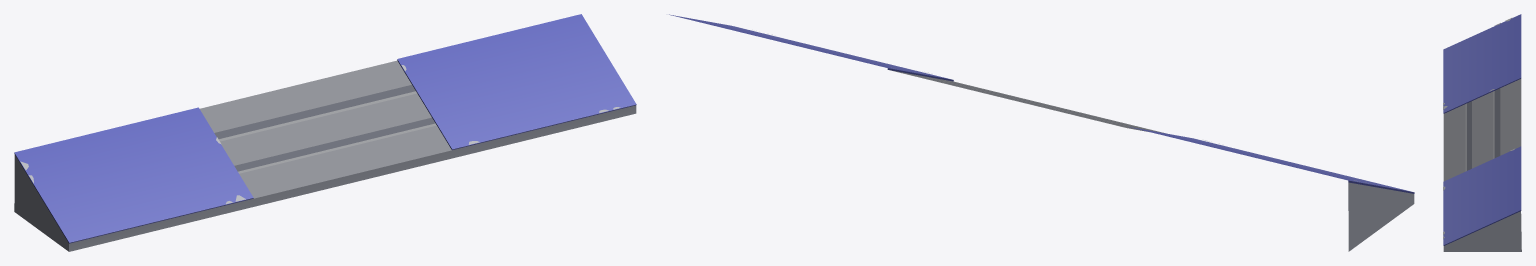
File: StartGateRampBlue.glb
The picture shows the model from 3 angles, left to right: view 1: azimuth 30°, elevation 25°; view 2: azimuth 150°, elevation 25°; view 3: azimuth 270°, elevation 25°; orthographic projection. The views are drawn at different scales.
Parts seen in each view (by area): view 1: StartGateRampBlue; view 2: StartGateRampBlue; view 3: StartGateRampBlue.
Part boxes in pixels (box(x1,y1,x2,y2)): StartGateRampBlue: box(14, 14, 636, 251); StartGateRampBlue: box(669, 14, 1414, 251); StartGateRampBlue: box(1443, 14, 1521, 251).
Size of the model in its own units: 6.47 by 0.6484 by 1.1.
